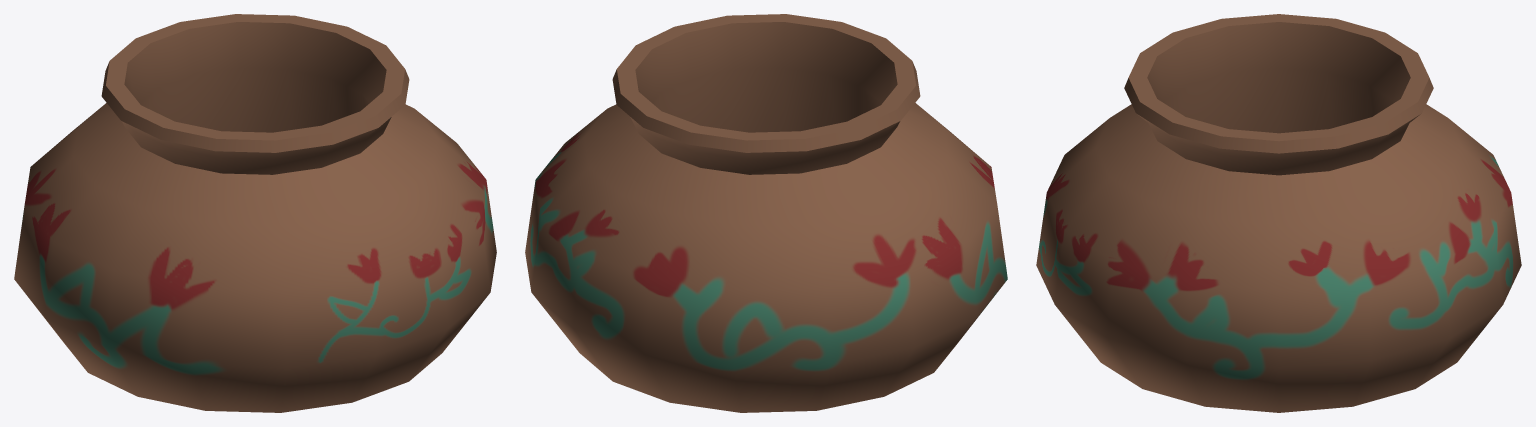
The model's file is 2pot.fbx.
3 views of the same model, side by side, from view 1: azimuth 30°, elevation 25°; view 2: azimuth 150°, elevation 25°; view 3: azimuth 270°, elevation 25° (orthographic).
Parts seen in each view (by area): view 1: Cylinder.001; view 2: Cylinder.001; view 3: Cylinder.001.
Boxes of the visible parts, x1=… form: Cylinder.001: x1=14, y1=14, x2=496, y2=412; Cylinder.001: x1=525, y1=14, x2=1007, y2=412; Cylinder.001: x1=1036, y1=14, x2=1521, y2=412.
Size of the model in its own units: 219 by 138 by 219.
